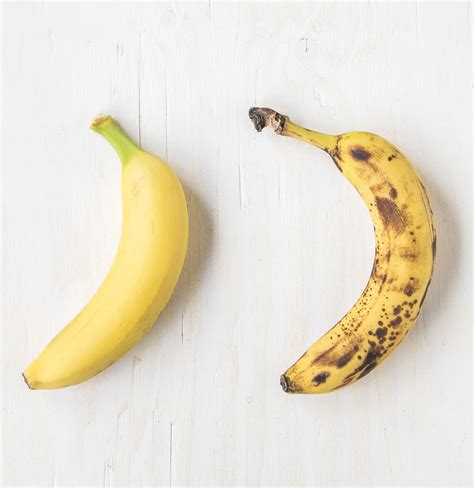banana: (276, 129, 440, 398), (18, 144, 193, 393)
